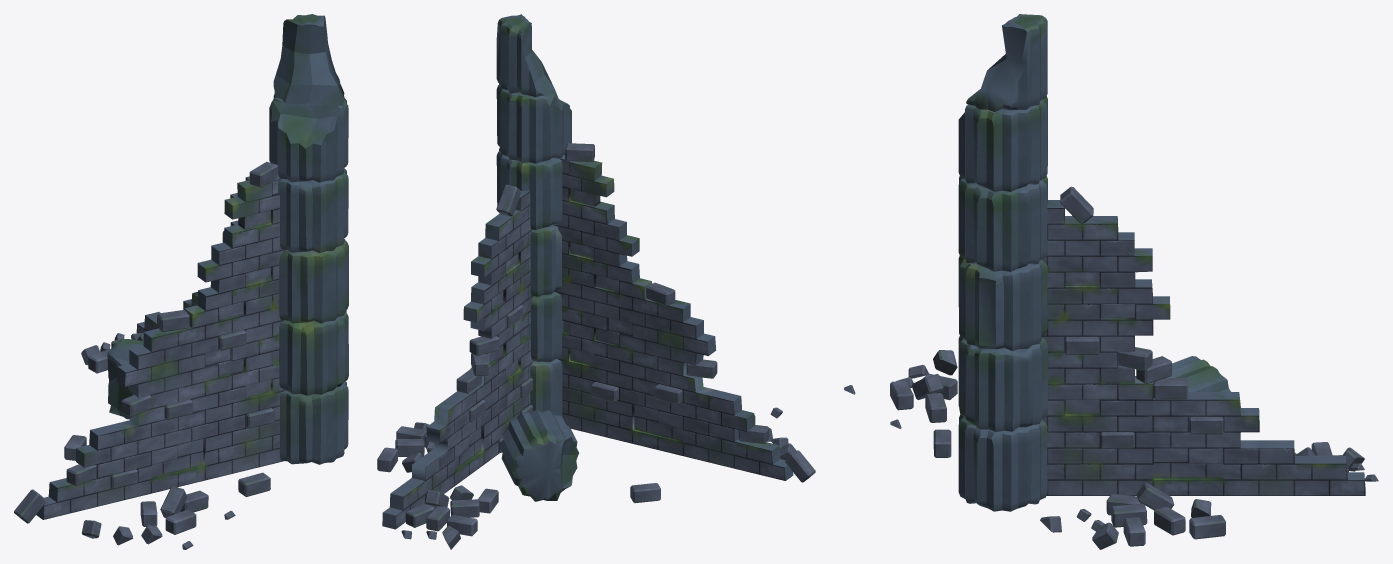
File: wall_corner_2.obj
The picture shows the model from 3 angles, left to right: view 1: azimuth 30°, elevation 25°; view 2: azimuth 150°, elevation 25°; view 3: azimuth 270°, elevation 25°; orthographic projection. The views are drawn at different scales.
Visible parts, largest first — view 1: Walls6_Estructura1_0, Pillar6_Material.001_0, Bricks6_Estructura1_0; view 2: Walls6_Estructura1_0, Pillar6_Material.001_0, Bricks6_Estructura1_0; view 3: Pillar6_Material.001_0, Walls6_Estructura1_0, Bricks6_Estructura1_0.
Part boxes in pixels (left/top/right/bottom): Walls6_Estructura1_0: left=36, top=175, right=286, bottom=519; Pillar6_Material.001_0: left=107, top=14, right=348, bottom=464; Bricks6_Estructura1_0: left=14, top=161, right=277, bottom=549; Walls6_Estructura1_0: left=382, top=155, right=793, bottom=529; Pillar6_Material.001_0: left=496, top=14, right=578, bottom=501; Bricks6_Estructura1_0: left=377, top=143, right=815, bottom=549; Pillar6_Material.001_0: left=958, top=14, right=1230, bottom=511; Walls6_Estructura1_0: left=1042, top=200, right=1365, bottom=495; Bricks6_Estructura1_0: left=844, top=186, right=1378, bottom=549.
Bounding box in the file's own units: 2.81 × 3.08 × 3.03.
